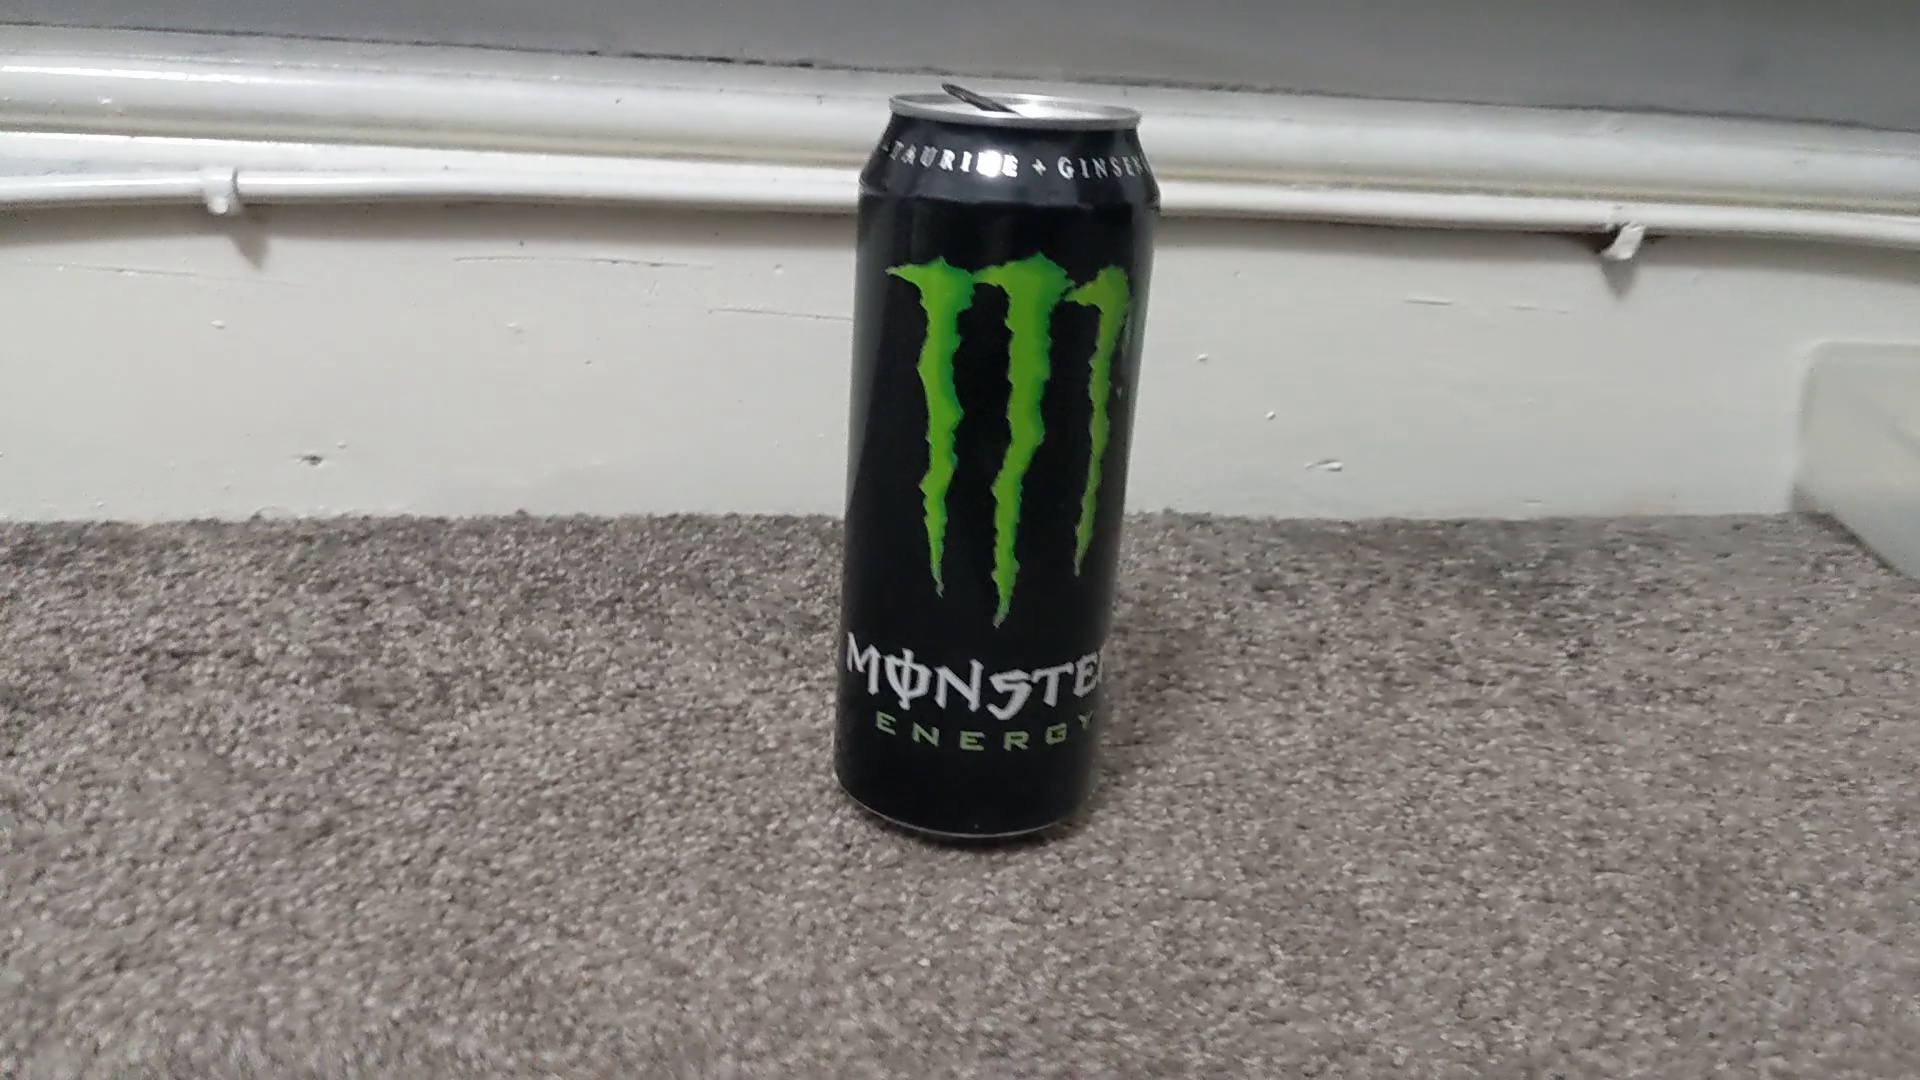monster-original: (828, 95, 1163, 841)
